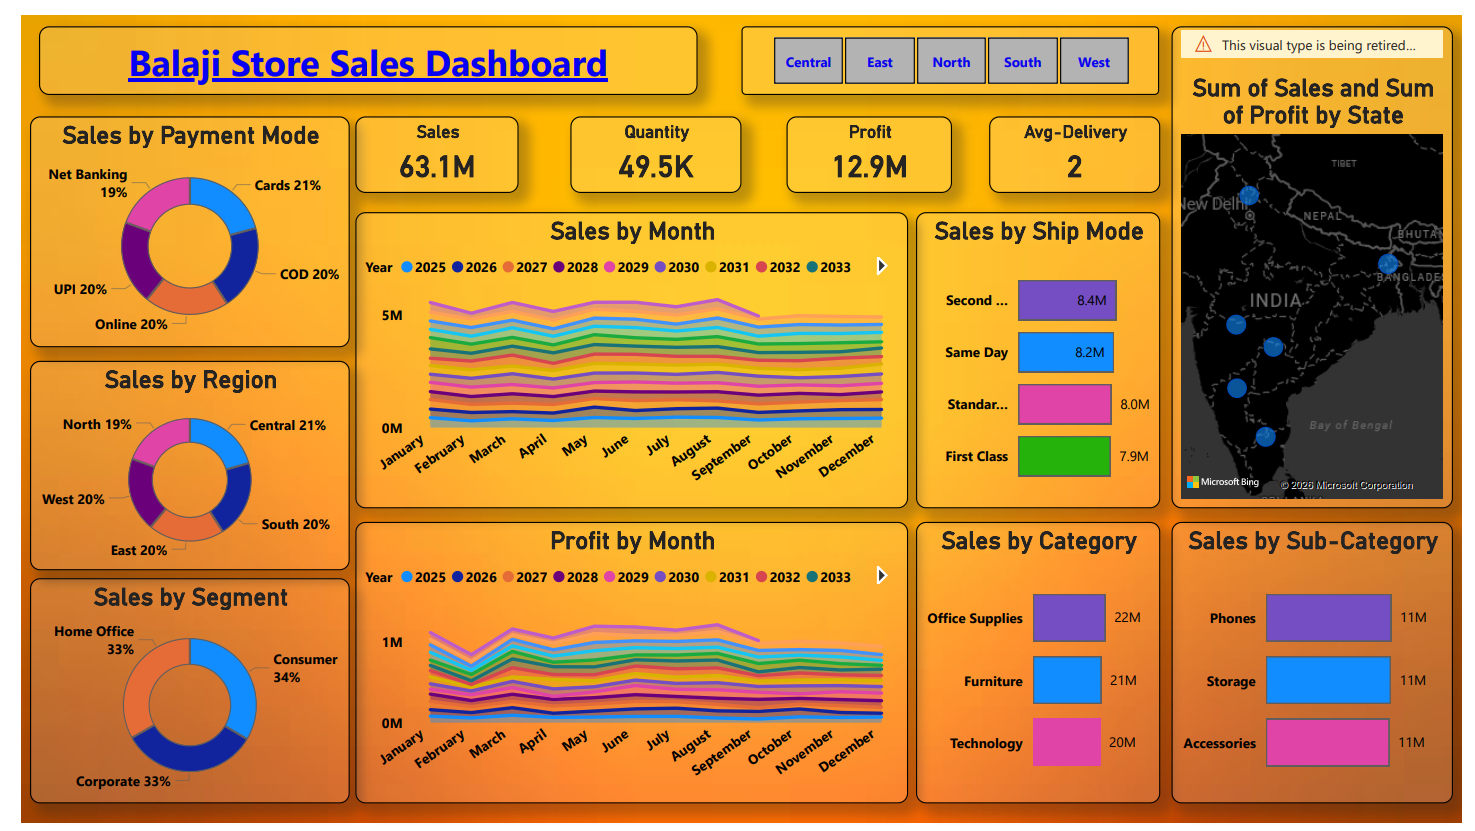

The dashboard page shown, as its layout file describes it:
{"tool":"powerbi","page":{"name":"Page 1","canvas":[1280,720],"ordinal":0},"visuals":[{"type":"clusteredBarChart","title":"Sales by Category","fields":{"Category":["SuperStore_5000_Rows_New_Data.Category"],"Y":["Sum(SuperStore_5000_Rows_New_Data.Sales)"]},"box":[795,450,216.7,250],"z":0},{"type":"clusteredBarChart","title":"Sales by Sub-Category","fields":{"Category":["SuperStore_5000_Rows_New_Data.Sub-Category"],"Y":["Sum(SuperStore_5000_Rows_New_Data.Sales)"]},"box":[1021.7,450,250,250],"z":1000},{"type":"clusteredBarChart","title":"Sales by Ship Mode","fields":{"Category":["SuperStore_5000_Rows_New_Data.Ship Mode"],"Y":["Sum(SuperStore_5000_Rows_New_Data.Sales)"]},"box":[795,175,216.7,263.3],"z":2000},{"type":"stackedAreaChart","title":"Sales by Month","fields":{"Y":["Sum(SuperStore_5000_Rows_New_Data.Sales)"],"Category":["SuperStore_5000_Rows_New_Data.Order Date.Variation.Date Hierarchy.Month","SuperStore_5000_Rows_New_Data.Order Date.Variation.Date Hierarchy.Day"],"Series":["SuperStore_5000_Rows_New_Data.Order Date.Variation.Date Hierarchy.Year"]},"box":[296.7,175,491.7,263.3],"z":3000},{"type":"stackedAreaChart","title":"Profit by Month","fields":{"Category":["SuperStore_5000_Rows_New_Data.Order Date.Variation.Date Hierarchy.Month","SuperStore_5000_Rows_New_Data.Order Date.Variation.Date Hierarchy.Day"],"Series":["SuperStore_5000_Rows_New_Data.Order Date.Variation.Date Hierarchy.Year"],"Y":["Sum(SuperStore_5000_Rows_New_Data.Profit)"]},"box":[296.7,450,491.7,250],"z":4000},{"type":"map","fields":{"Category":["SuperStore_5000_Rows_New_Data.State"],"Size":["Sum(SuperStore_5000_Rows_New_Data.Sales)"]},"box":[1021.7,10,250,428.3],"z":5000},{"type":"donutChart","title":"Sales by Segment","fields":{"Category":["SuperStore_5000_Rows_New_Data.Segment"],"Y":["Sum(SuperStore_5000_Rows_New_Data.Sales)"]},"box":[8.3,500,283.3,200],"z":6000},{"type":"donutChart","title":"Sales by Payment Mode","fields":{"Y":["Sum(SuperStore_5000_Rows_New_Data.Sales)"],"Category":["SuperStore_5000_Rows_New_Data.Payment Mode"]},"box":[8.3,90,283.3,205],"z":7000},{"type":"slicer","fields":{"Values":["SuperStore_5000_Rows_New_Data.Region"]},"box":[640,10,371.4,61.4],"z":8000},{"type":"textbox","box":[15.7,10,585.7,61.4],"z":9000},{"type":"card","title":"Sales","fields":{"Values":["Sum(SuperStore_5000_Rows_New_Data.Sales)"]},"box":[296.7,90,145,68.3],"z":10000},{"type":"card","title":"Quantity","fields":{"Values":["Sum(SuperStore_5000_Rows_New_Data.Quantity)"]},"box":[488.3,90,151.7,68.3],"z":11000},{"type":"card","title":"Profit","fields":{"Values":["Sum(SuperStore_5000_Rows_New_Data.Profit)"]},"box":[680,90,146.7,68.3],"z":12000},{"type":"card","title":"Avg-Delivery","fields":{"Values":["Avg(SuperStore_5000_Rows_New_Data.AvgDelivery)"]},"box":[860,90,151.7,68.3],"z":13000},{"type":"donutChart","title":"Sales by Region","fields":{"Y":["Sum(SuperStore_5000_Rows_New_Data.Sales)"],"Category":["SuperStore_5000_Rows_New_Data.Region"]},"box":[8.3,306.7,283.3,186.7],"z":14000}]}

Visuals, with their boxes in screenshot pixels (x1, y1, x2, y2), scaled from the page's 1280x720 canvas onto the 1475x831 screenshot:
"Sales by Category" clusteredBarChart: <region>916, 519, 1166, 808</region>
"Sales by Sub-Category" clusteredBarChart: <region>1177, 519, 1465, 808</region>
"Sales by Ship Mode" clusteredBarChart: <region>916, 202, 1166, 506</region>
"Sales by Month" stackedAreaChart: <region>342, 202, 909, 506</region>
"Profit by Month" stackedAreaChart: <region>342, 519, 909, 808</region>
map - SuperStore_5000_Rows_New_Data.State x Sum(SuperStore_5000_Rows_New_Data.Sales): <region>1177, 12, 1465, 506</region>
"Sales by Segment" donutChart: <region>10, 577, 336, 808</region>
"Sales by Payment Mode" donutChart: <region>10, 104, 336, 340</region>
slicer - SuperStore_5000_Rows_New_Data.Region: <region>738, 12, 1165, 82</region>
textbox: <region>18, 12, 693, 82</region>
"Sales" card: <region>342, 104, 509, 183</region>
"Quantity" card: <region>563, 104, 738, 183</region>
"Profit" card: <region>784, 104, 953, 183</region>
"Avg-Delivery" card: <region>991, 104, 1166, 183</region>
"Sales by Region" donutChart: <region>10, 354, 336, 569</region>
